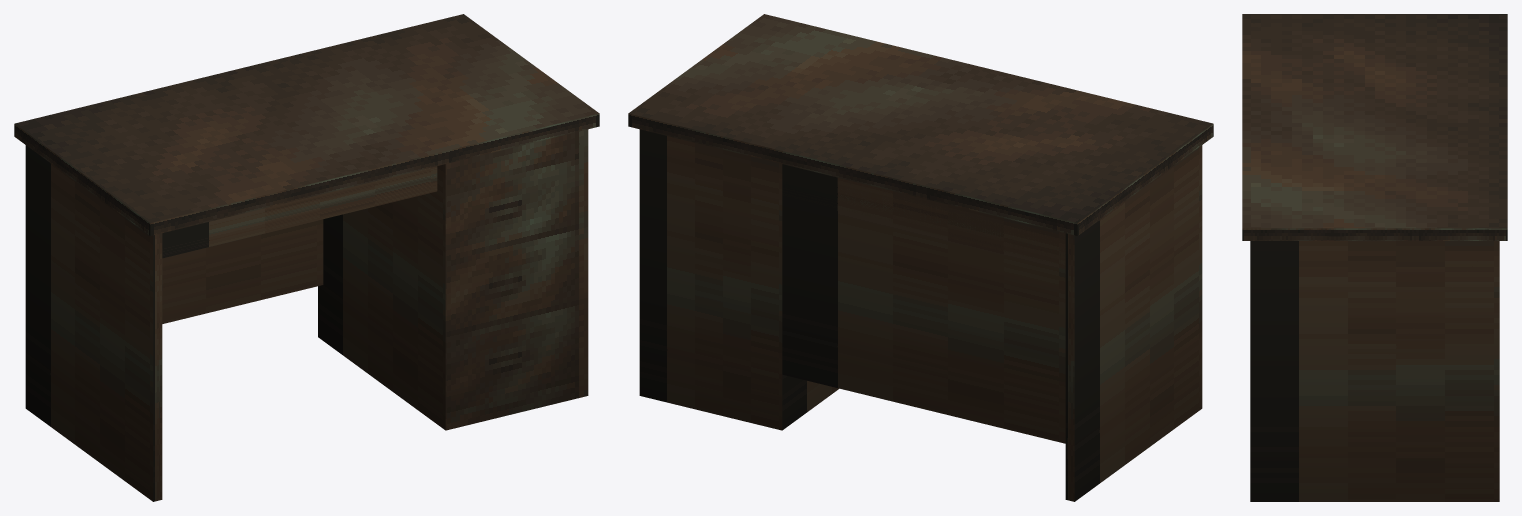
Rendered from prop_teacherdesk-2.glb.
3 renders of one model, left to right at view 1: azimuth 30°, elevation 25°; view 2: azimuth 150°, elevation 25°; view 3: azimuth 270°, elevation 25°, orthographic. The views are drawn at different scales.
Visible parts, largest first — view 1: prop_teacherdesk-2; view 2: prop_teacherdesk-2; view 3: prop_teacherdesk-2.
Boxes of the visible parts, left/top/right/bottom form: prop_teacherdesk-2: left=14, top=14, right=599, bottom=501; prop_teacherdesk-2: left=628, top=14, right=1213, bottom=501; prop_teacherdesk-2: left=1242, top=14, right=1507, bottom=501.
Size of the model in its own units: 1.3 by 0.7828 by 0.6798.
Materials: 1 (1 with a texture image).
